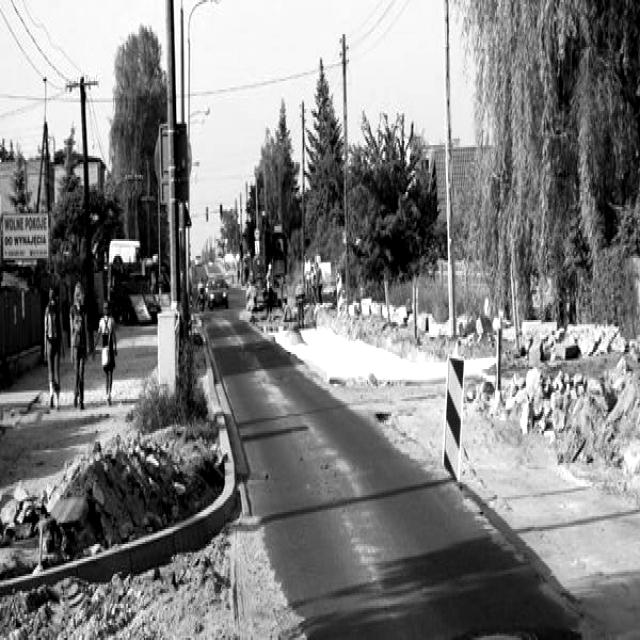cleat: (179, 232, 640, 640)
